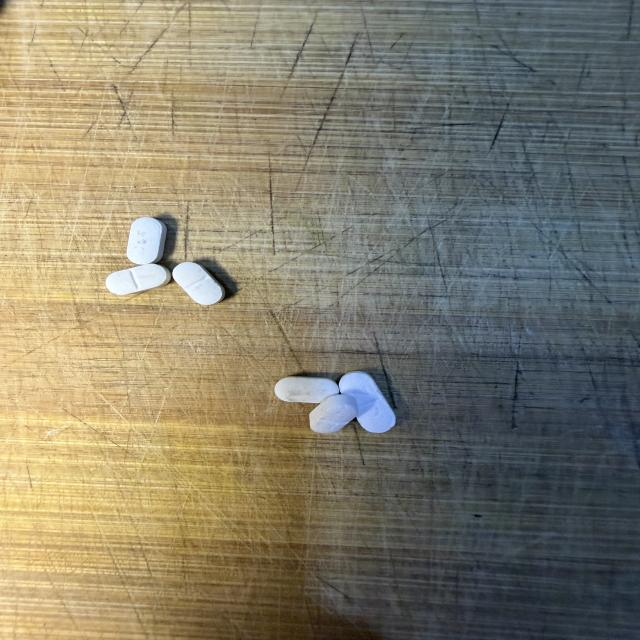pill: (339, 371, 395, 432), (173, 263, 224, 305), (106, 264, 171, 295), (127, 217, 166, 264), (310, 395, 357, 433), (275, 377, 339, 403)
